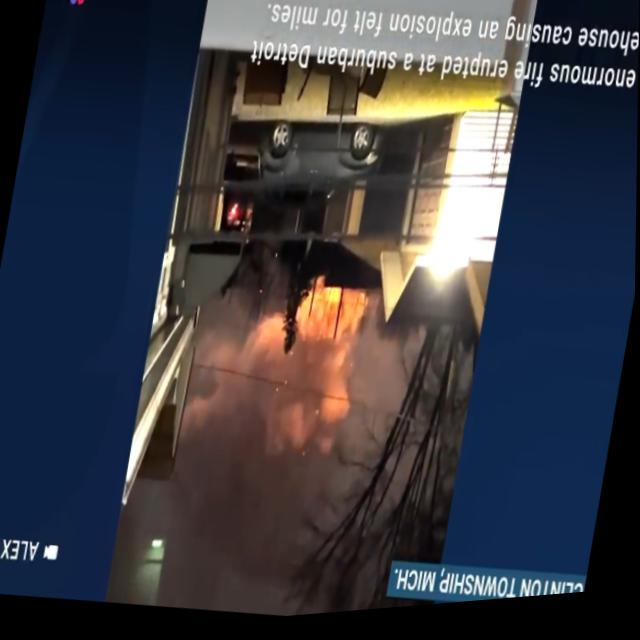Fire: (302, 288, 364, 346), (209, 197, 258, 246)
